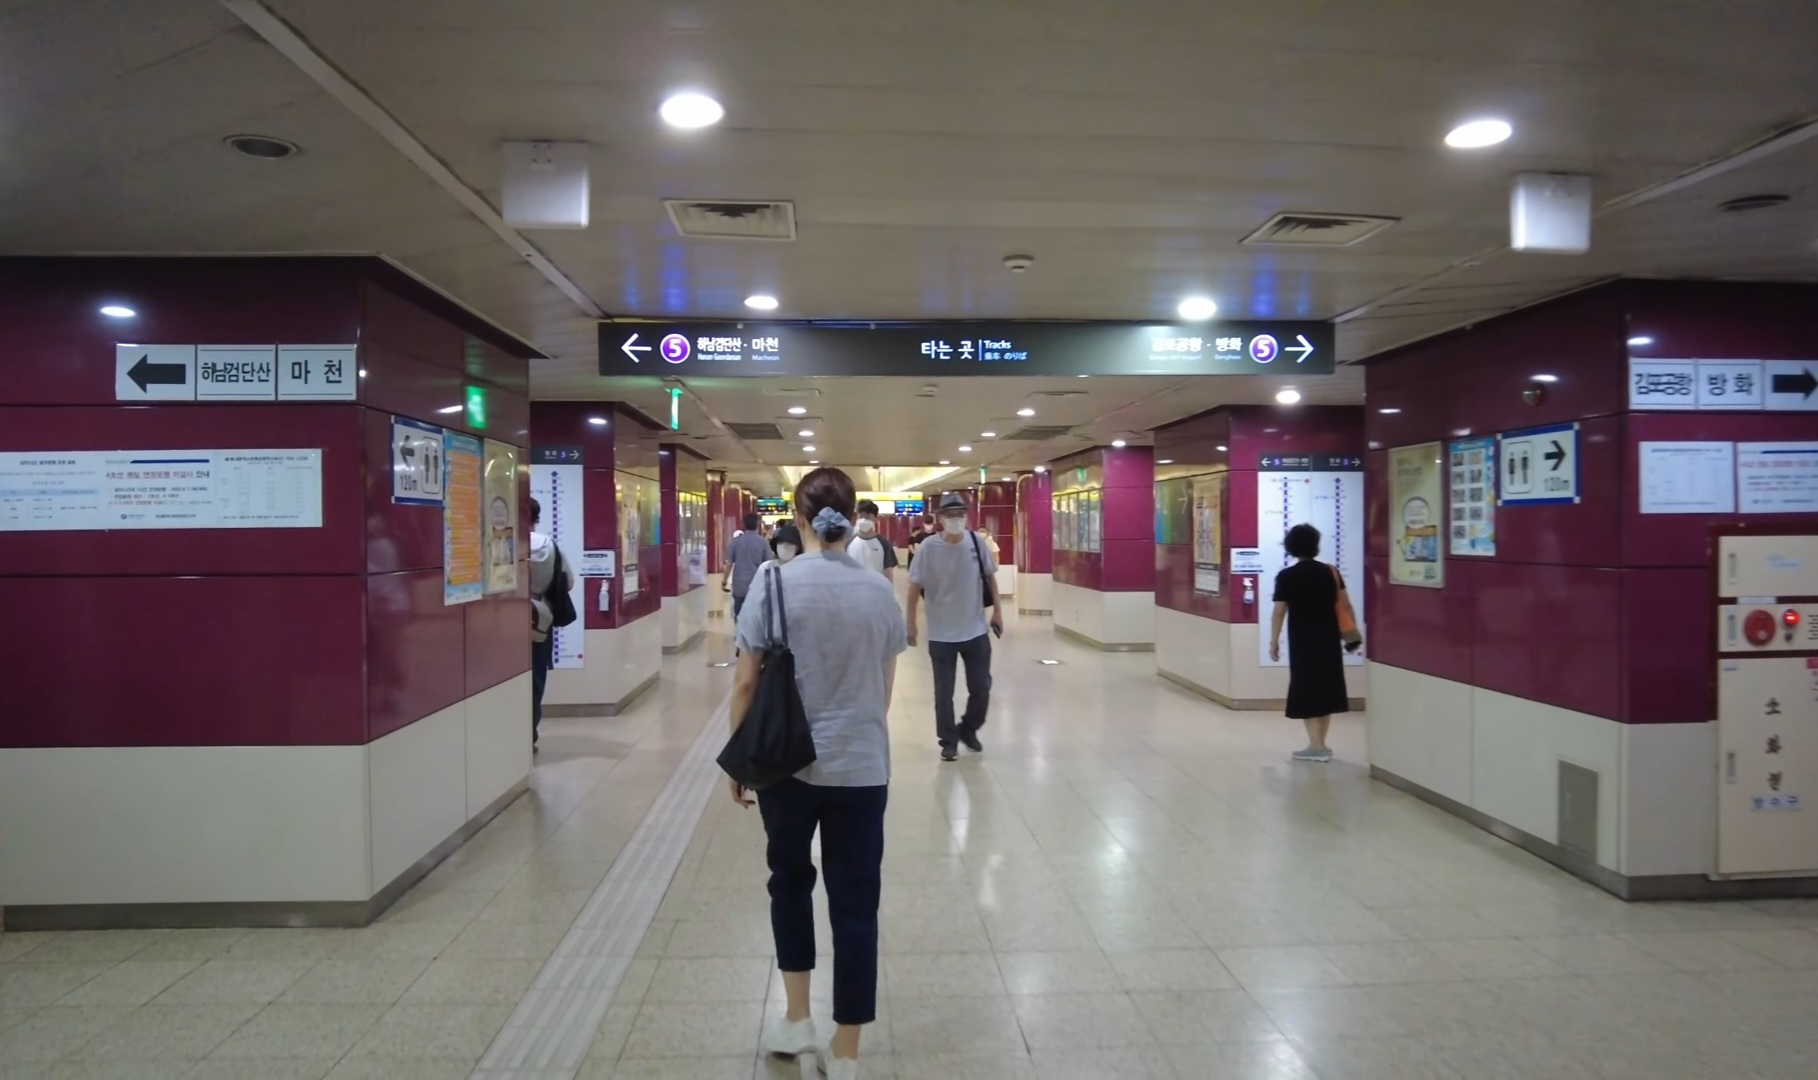signBoard: (589, 307, 1345, 386)
